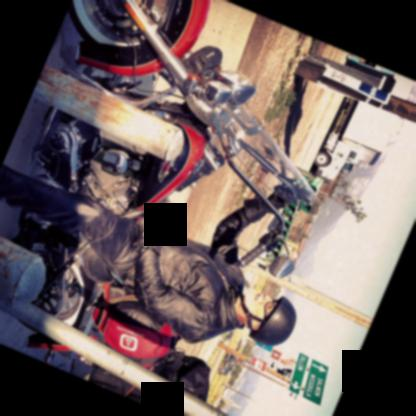suitcase: (88, 347, 183, 414)
